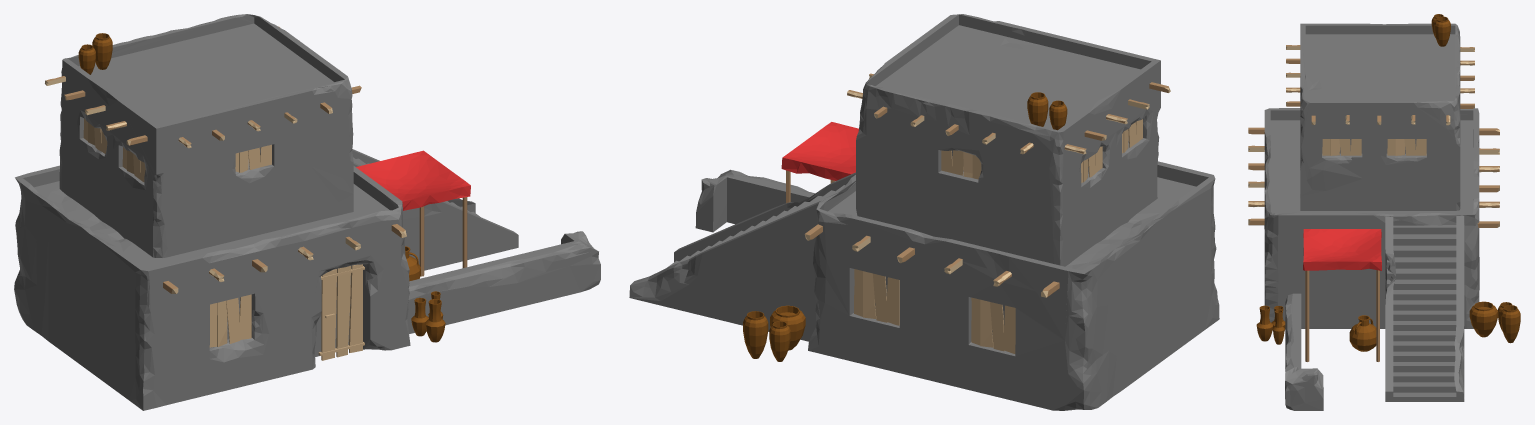
File: SM_house_egypt_01.fbx
3 renders of one model, left to right at view 1: azimuth 30°, elevation 25°; view 2: azimuth 150°, elevation 25°; view 3: azimuth 270°, elevation 25°, orthographic. The views are drawn at different scales.
Visible parts, largest first — view 1: Object175; view 2: Object175; view 3: Object175.
Boxes of the visible parts, x1,y1,x2,y2 form: Object175: (14, 14, 600, 410); Object175: (629, 14, 1219, 410); Object175: (1248, 14, 1520, 410).
Bounding box in the file's own units: 455 × 277 × 261.
